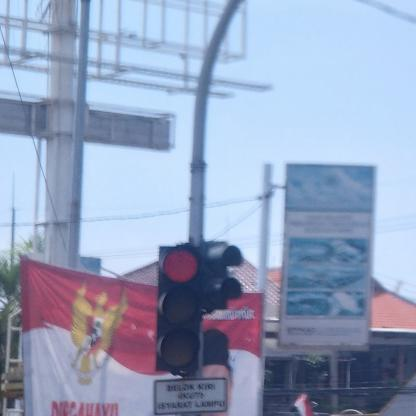red: (155, 244, 200, 372)
